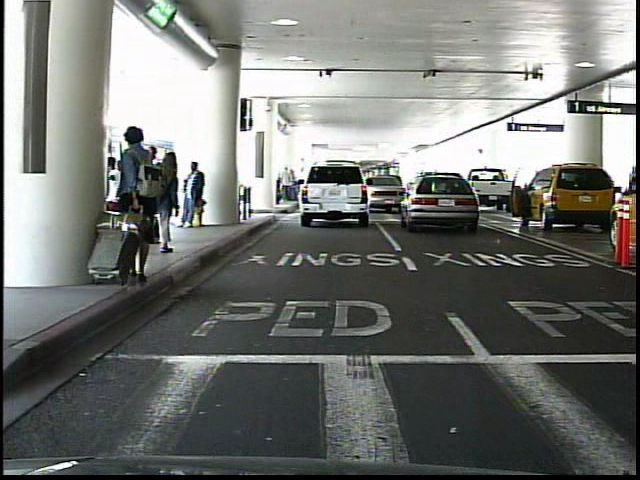person: (115, 123, 167, 287), (144, 145, 172, 239), (179, 158, 208, 233)
